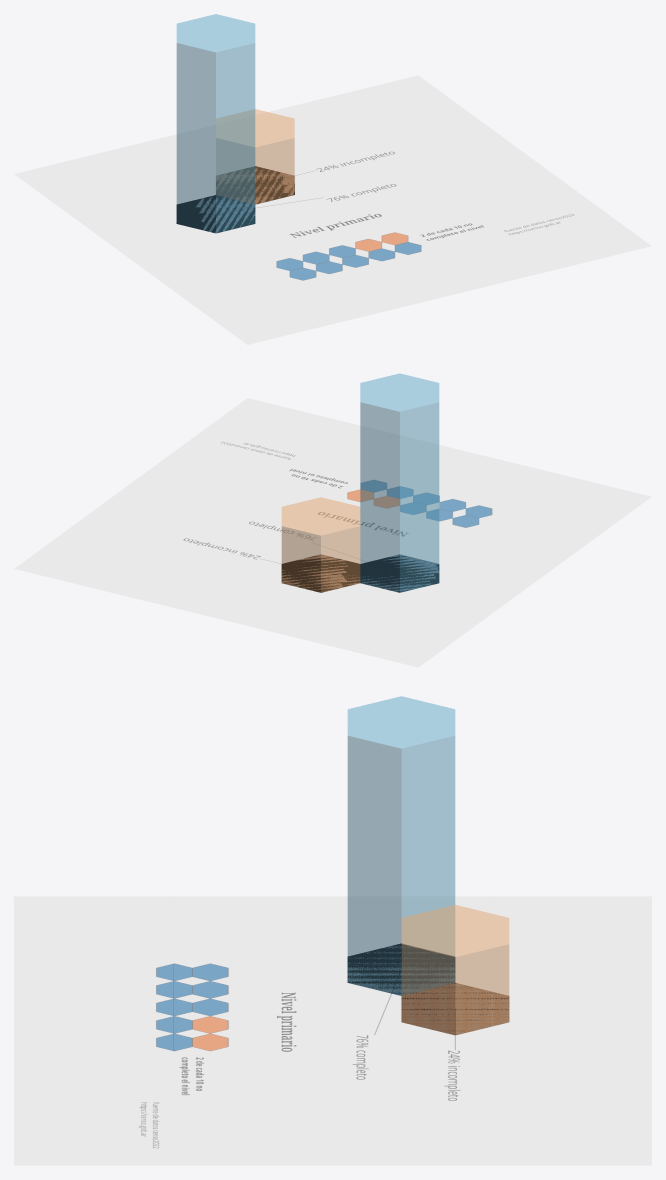
Rendered from primaria.gltf.
3 views of the same model, one above another, from view 1: azimuth 30°, elevation 25°; view 2: azimuth 150°, elevation 25°; view 3: azimuth 270°, elevation 25° (orthographic). The views are drawn at different scales.
Visible parts, largest first — view 1: GSI Elevation Tile, barras, etiqueta; view 2: GSI Elevation Tile, barras, etiqueta; view 3: GSI Elevation Tile, barras, etiqueta.
Part boxes in pixels (box(x1,y1,x2,y2)): GSI Elevation Tile: box(14, 75, 651, 344); barras: box(176, 14, 294, 233); etiqueta: box(176, 166, 294, 232); GSI Elevation Tile: box(14, 398, 651, 667); barras: box(281, 373, 439, 592); etiqueta: box(281, 555, 439, 592); GSI Elevation Tile: box(14, 896, 651, 1165); barras: box(347, 696, 509, 1035); etiqueta: box(347, 943, 508, 1034).
Bounding box in the file's own units: 1777 × 760 × 1777.
Materials: 4 (1 with a texture image).
